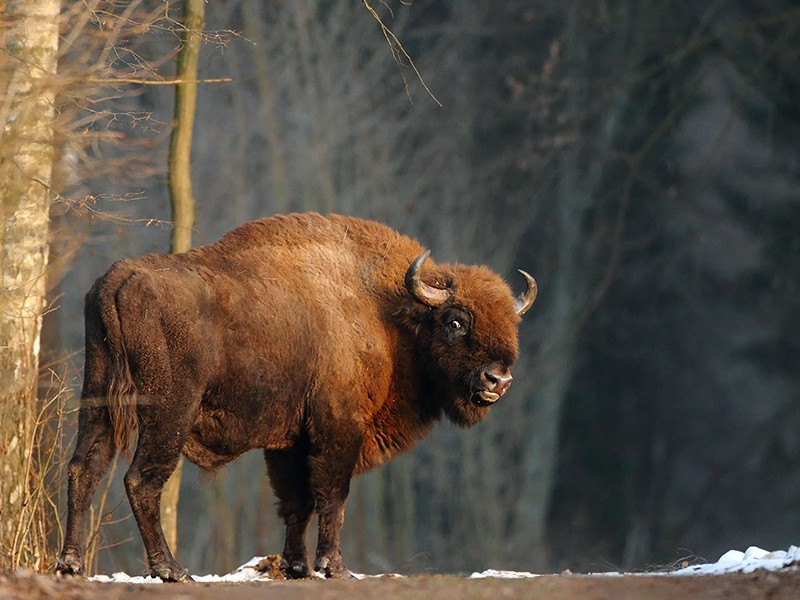zubr: (75, 199, 557, 576)
